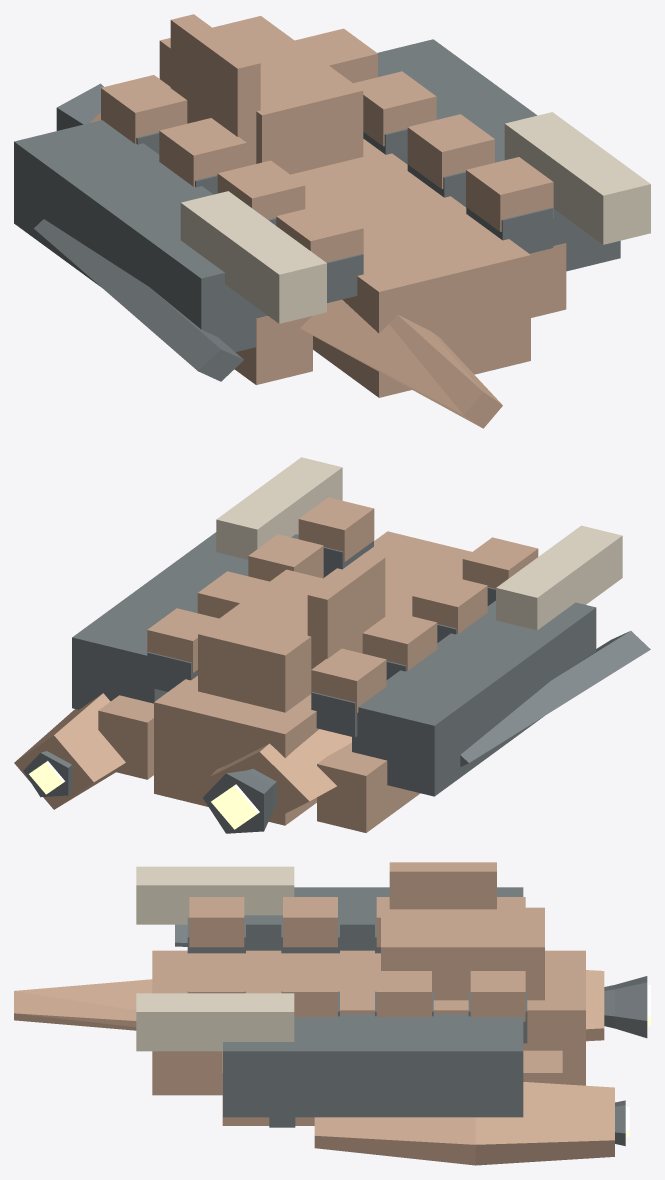
3 views of the same model, one above another, from view 1: azimuth 30°, elevation 25°; view 2: azimuth 150°, elevation 25°; view 3: azimuth 270°, elevation 25° (orthographic). The views are drawn at different scales.
Size of the model in its own units: 14.99 by 7.83 by 21.75.
